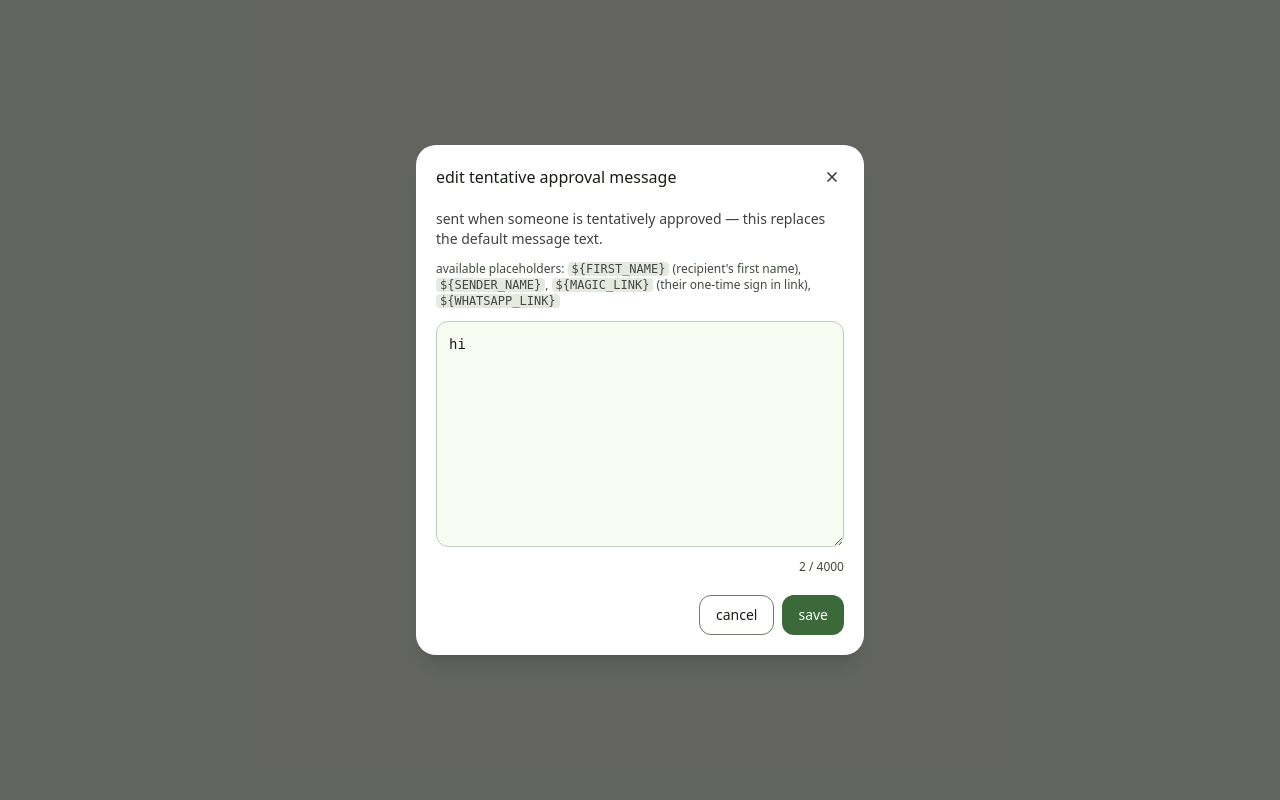
it: TentativeApprovalMessageEditorDialog › shows the FE-rendered too-long error from a structured 422
The image size is (1280, 800).
Click the button "save" at point(813, 615), box [782,595,844,635]
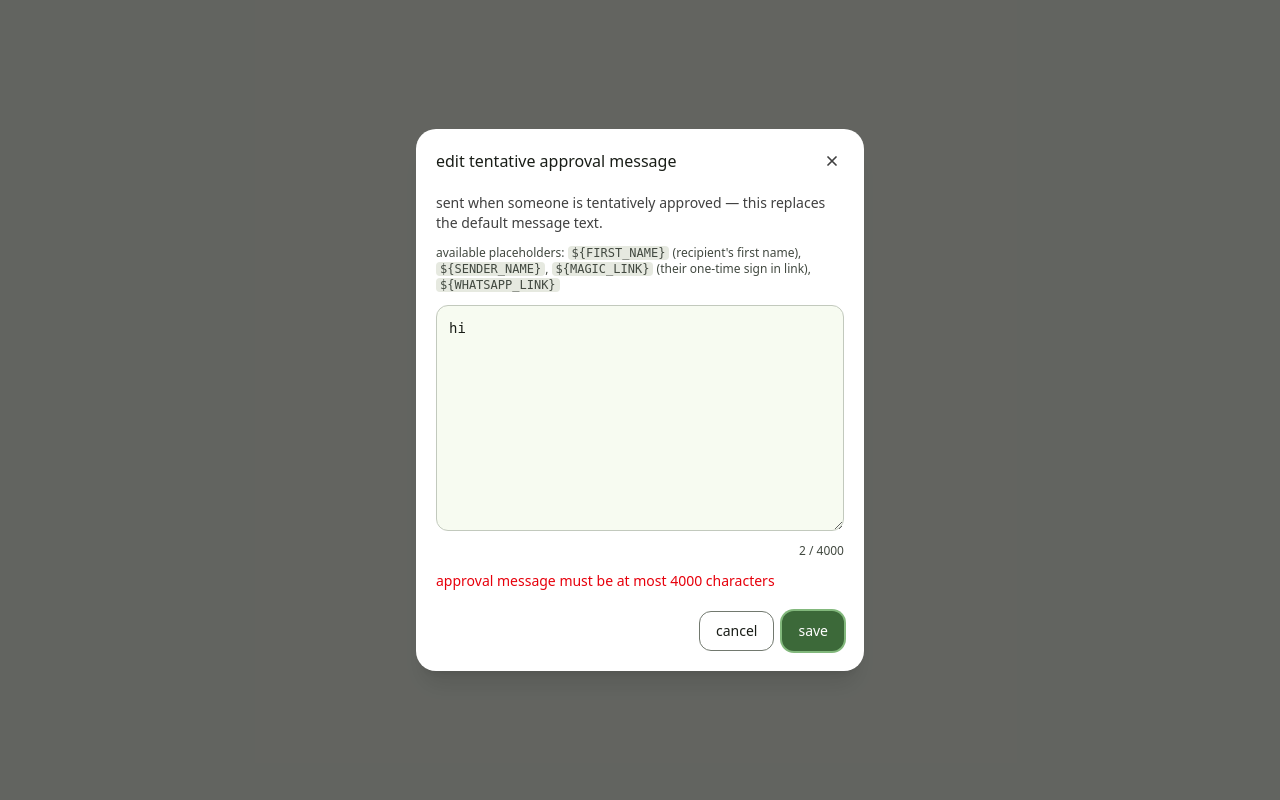
Expected: the message reads "approval message must be at most 4000 characters", [436,571,775,590]
